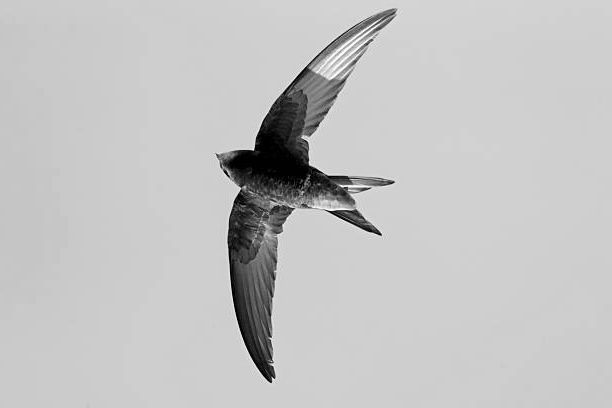Bird: (213, 4, 399, 387)
